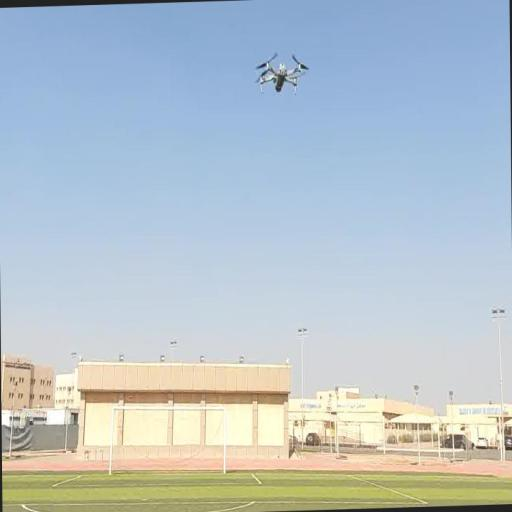drone: (251, 41, 312, 100)
